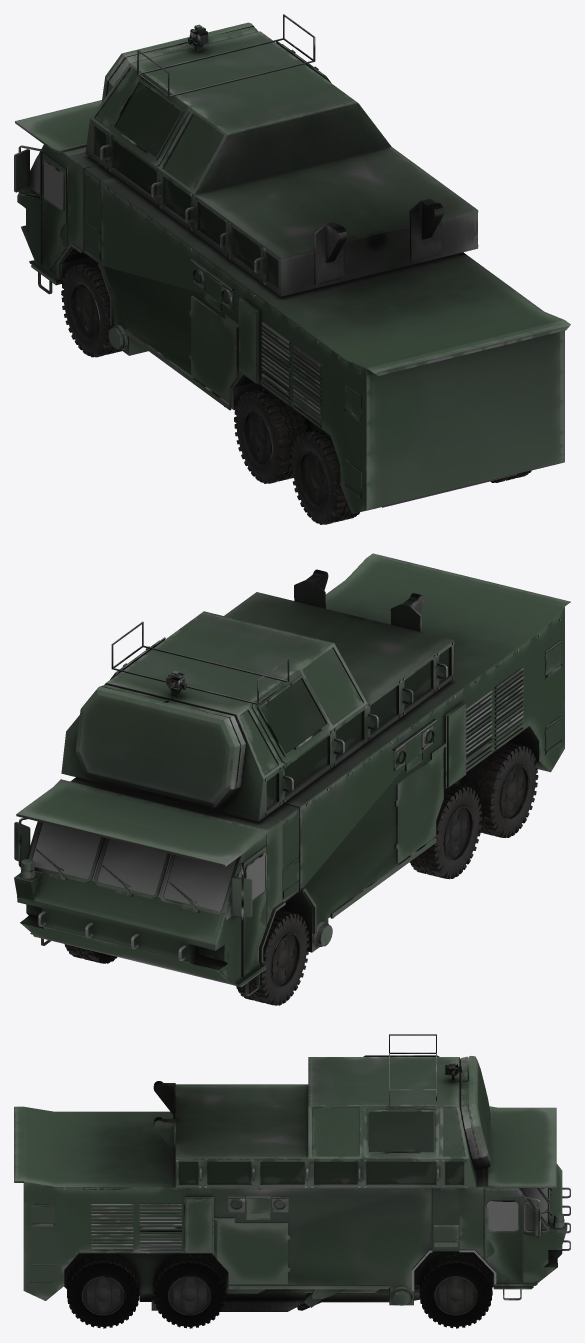
File: buk.glb
3 views of the same model, one above another, from view 1: azimuth 30°, elevation 25°; view 2: azimuth 150°, elevation 25°; view 3: azimuth 270°, elevation 25° (orthographic). The views are drawn at different scales.
Parts seen in each view (by area): view 1: body|Scene_-_Root; view 2: body|Scene_-_Root; view 3: body|Scene_-_Root, missile|Scene_-_Root, cradle|Scene_-_Root.
Boxes of the visible parts, <box> form: body|Scene_-_Root: <box>14,14,570,524</box>; body|Scene_-_Root: <box>14,553,570,1005</box>; body|Scene_-_Root: <box>14,1034,570,1328</box>; missile|Scene_-_Root: <box>139,1289,420,1311</box>; cradle|Scene_-_Root: <box>297,1281,493,1310</box>.
Bounding box in the file's own units: 4.44 × 5.79 × 11.62.
4 materials, 4 textured.
